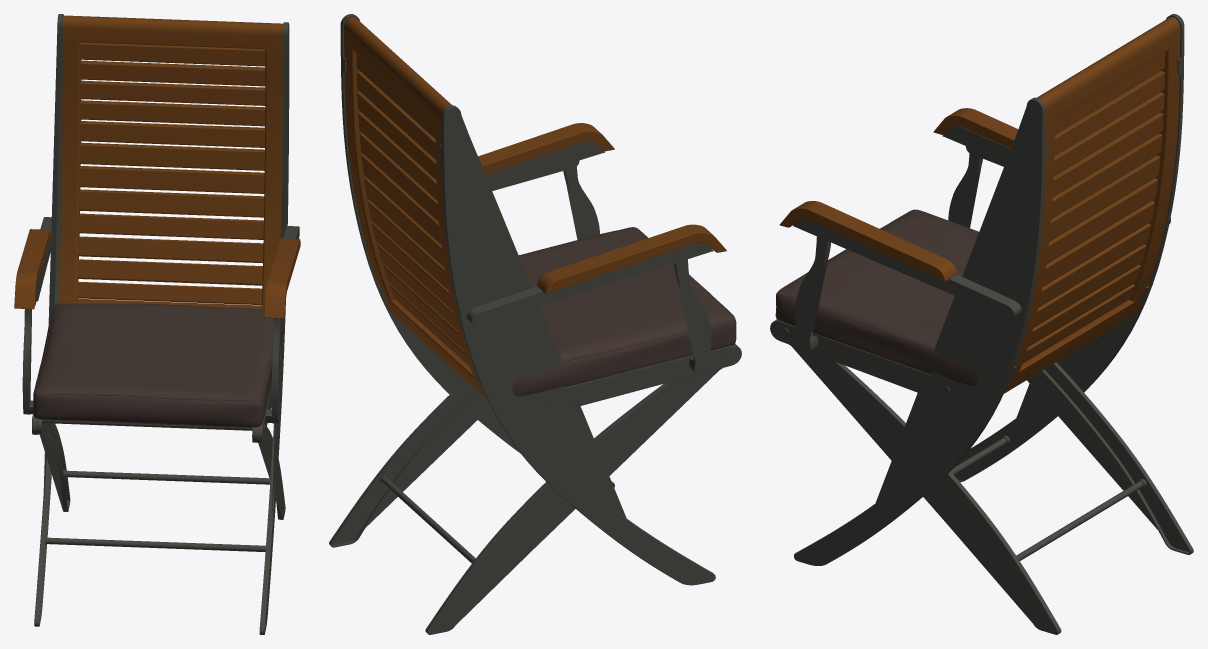
Rendered from lawn_chair.FBX.
3 renders of one model, left to right at view 1: azimuth 30°, elevation 25°; view 2: azimuth 150°, elevation 25°; view 3: azimuth 270°, elevation 25°, orthographic. The views are drawn at different scales.
Visible parts, largest first — view 1: wooden back, sitting, Object01, Line06, metal body, Object02, Line02, Object03; view 2: Object01, wooden back, Object02, sitting, Line02, Line06, metal body; view 3: wooden back, Object01, Object02, sitting, Line02, Line06, metal body.
Part boxes in pixels (x1,y1,x2,y2): wooden back: (59,15,283,309); sitting: (33,303,282,427); Object01: (34,14,289,634); Line06: (14,229,300,318); metal body: (46,470,270,551); Object02: (32,386,285,519); Line02: (22,217,299,423); Object03: (32,357,281,431); Object01: (340,14,715,585); wooden back: (344,17,486,399); Object02: (329,344,741,634); sitting: (512,227,736,396); Line02: (466,141,713,375); Line06: (478,123,726,293); metal body: (383,478,475,563); wooden back: (1004,17,1180,393); Object01: (794,14,1184,565); Object02: (770,319,1193,634); sitting: (775,209,978,386); Line02: (793,126,1170,353); Line06: (779,108,1018,281); metal body: (950,438,1143,560).
Size of the model in its own units: 29.09 by 30.83 by 42.7.
